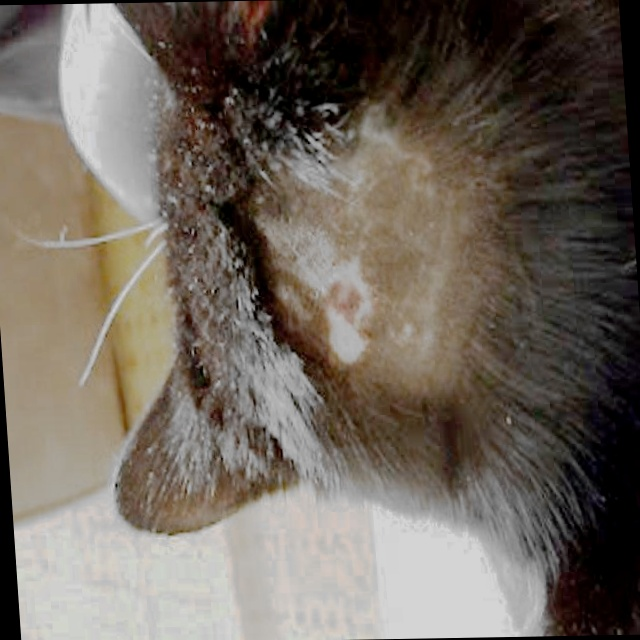ringworm: (311, 266, 382, 373)
